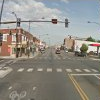crosswalk: (17, 68, 100, 72)
